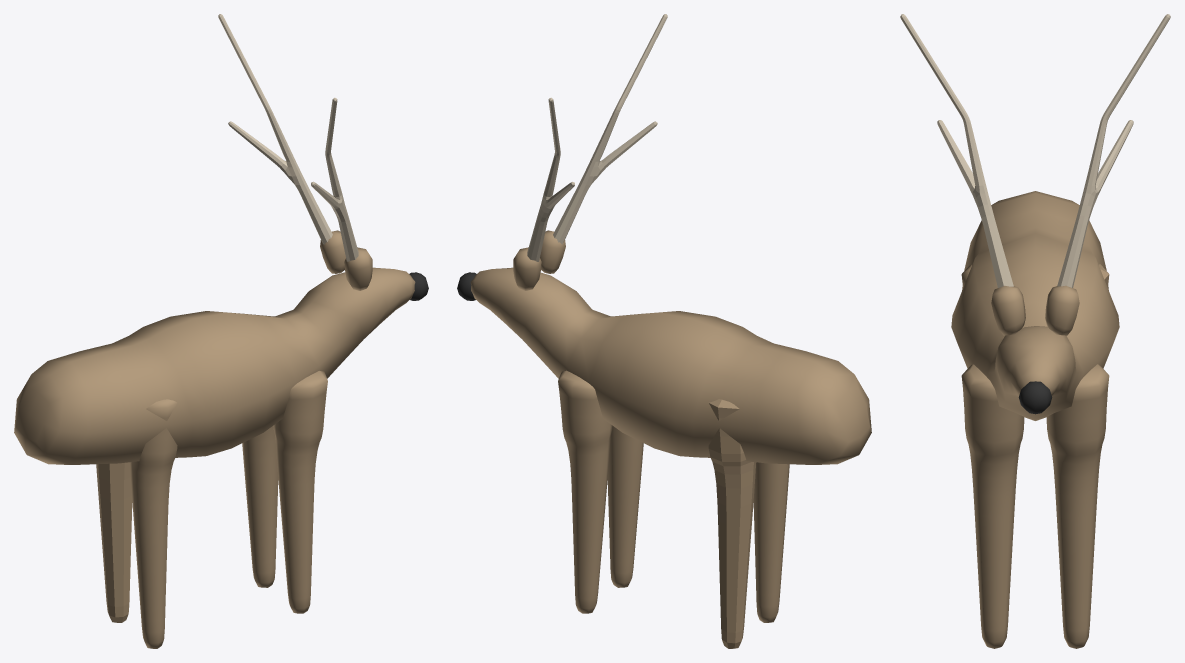
The model's file is elk.glb.
3 renders of one model, left to right at view 1: azimuth 30°, elevation 25°; view 2: azimuth 150°, elevation 25°; view 3: azimuth 270°, elevation 25°, orthographic. The views are drawn at different scales.
Visible parts, largest first — view 1: Elk, Leg0, Leg2, Leg3, Antlers, Leg1; view 2: Elk, Leg1, Leg3, Leg2, Antlers, Leg0; view 3: Elk, Leg1, Leg0, Antlers, Nose.
Part boxes in pixels (x1=…): Elk: x1=14, y1=230, x2=415, y2=464; Leg0: x1=273, y1=371, x2=327, y2=613; Leg2: x1=129, y1=399, x2=177, y2=648; Leg3: x1=96, y1=462, x2=132, y2=622; Antlers: x1=218, y1=14, x2=358, y2=261; Leg1: x1=242, y1=426, x2=278, y2=587; Elk: x1=470, y1=230, x2=871, y2=464; Leg1: x1=558, y1=370, x2=612, y2=613; Leg3: x1=708, y1=399, x2=756, y2=648; Leg2: x1=753, y1=462, x2=789, y2=622; Antlers: x1=527, y1=14, x2=667, y2=261; Leg0: x1=607, y1=426, x2=643, y2=587; Elk: x1=951, y1=191, x2=1119, y2=420; Leg1: x1=1046, y1=364, x2=1109, y2=648; Leg0: x1=961, y1=364, x2=1024, y2=648; Antlers: x1=900, y1=14, x2=1170, y2=287; Nose: x1=1018, y1=381, x2=1052, y2=414.
Bounding box in the file's own units: 1.97 × 2.55 × 0.9884.
